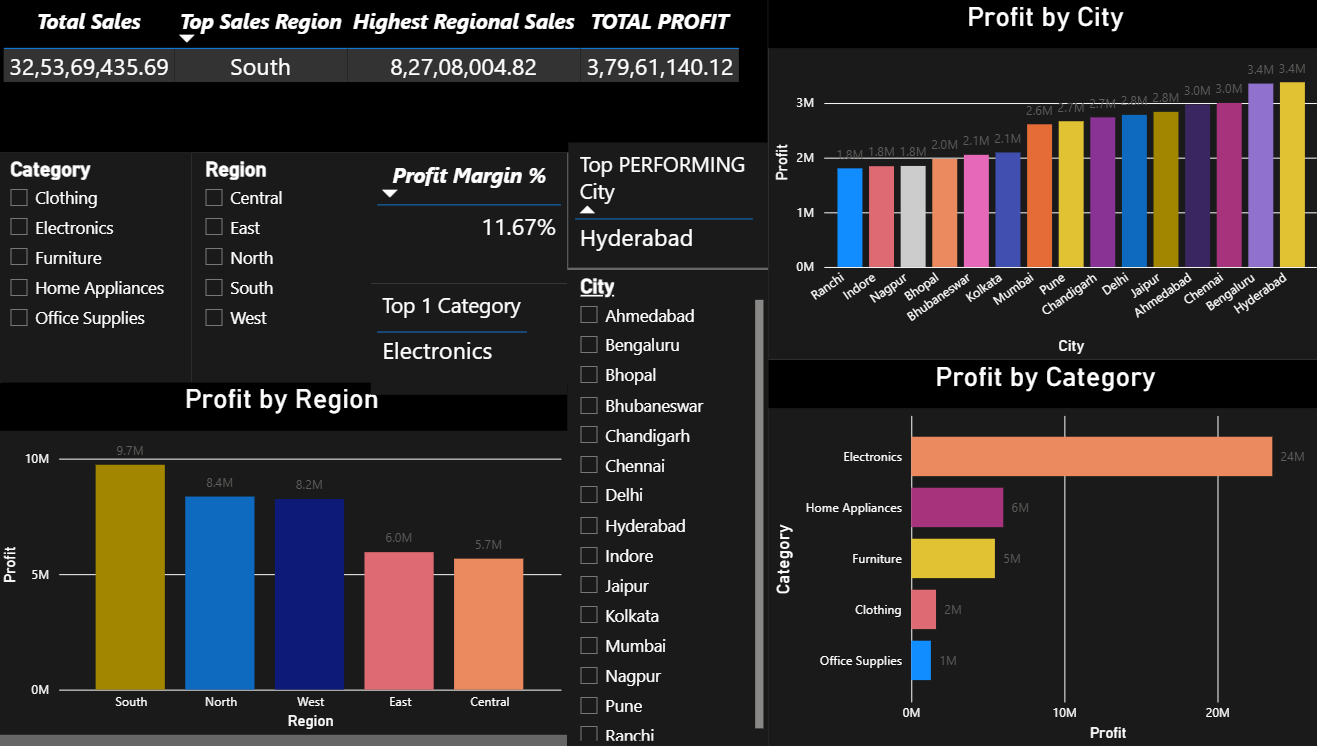

What the dashboard file says about the page in this screenshot:
{"tool":"powerbi","page":{"name":"Page 1","canvas":[1280,720],"ordinal":0},"visuals":[{"type":"barChart","fields":{"Category":["Sales_Data.Category"],"Y":["Sum(Sales_Data.Profit)"]},"box":[744.4,347.5,535.7,372.8],"z":0},{"type":"slicer","fields":{"Values":["Sales_Data.City"]},"box":[550.1,260.6,194.2,459.7],"z":1000},{"type":"slicer","fields":{"Values":["Sales_Data.Category"]},"box":[0,147.2,188.2,222],"z":2000},{"type":"tableEx","fields":{"Values":["Sum(Sales_Data.Sales)","Sales_Data.Top Sales Region","Sales_Data.Highest Regional Sales","Sales_Data.TOTAL PROFIT"]},"box":[0,0,744.4,147.2],"z":3000},{"type":"columnChart","fields":{"Category":["Sales_Data.Region"],"Y":["Sum(Sales_Data.Profit)"]},"box":[0,369.2,550.1,340.2],"z":4000},{"type":"slicer","fields":{"Values":["Sales_Data.Region"]},"box":[188.2,147.2,172.5,222],"z":5000},{"type":"columnChart","fields":{"Category":["Sales_Data.City"],"Y":["Sum(Sales_Data.Profit)"]},"box":[744.4,0,535.7,347.5],"z":6000},{"type":"tableEx","fields":{"Values":["Sales_Data.Profit Margin %"]},"box":[360.7,147.2,189.4,126.7],"z":7000},{"type":"tableEx","fields":{"Values":["Sales_Data.Top 1 Category"]},"box":[360.7,273.9,189.4,107.4],"z":8000},{"type":"tableEx","fields":{"Values":["Sales_Data.Top PERFORMING City"]},"box":[551.3,137.5,193,120.6],"z":9000}]}

Visuals, with their boxes in screenshot pixels (x1, y1, x2, y2), scaled from the page's 1280x720 canvas onto the 1317x746 screenshot:
barChart - Sales_Data.Category x Sum(Sales_Data.Profit): x1=766 y1=360 x2=1316 y2=745
slicer - Sales_Data.City: x1=566 y1=270 x2=766 y2=745
slicer - Sales_Data.Category: x1=0 y1=153 x2=194 y2=383
tableEx - Sum(Sales_Data.Sales) x Sales_Data.Top Sales Region: x1=0 y1=0 x2=766 y2=153
columnChart - Sales_Data.Region x Sum(Sales_Data.Profit): x1=0 y1=383 x2=566 y2=735
slicer - Sales_Data.Region: x1=194 y1=153 x2=371 y2=383
columnChart - Sales_Data.City x Sum(Sales_Data.Profit): x1=766 y1=0 x2=1316 y2=360
tableEx - Sales_Data.Profit Margin %: x1=371 y1=153 x2=566 y2=284
tableEx - Sales_Data.Top 1 Category: x1=371 y1=284 x2=566 y2=395
tableEx - Sales_Data.Top PERFORMING City: x1=567 y1=142 x2=766 y2=267
